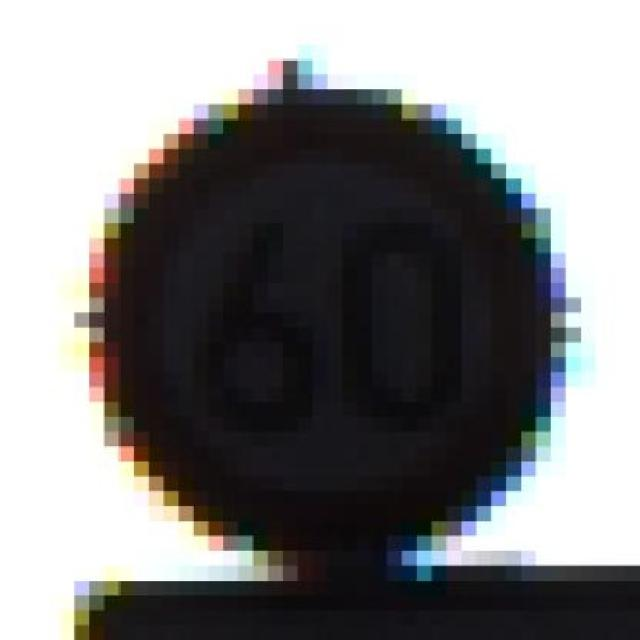forb_speed_over_60: (95, 90, 557, 545)
